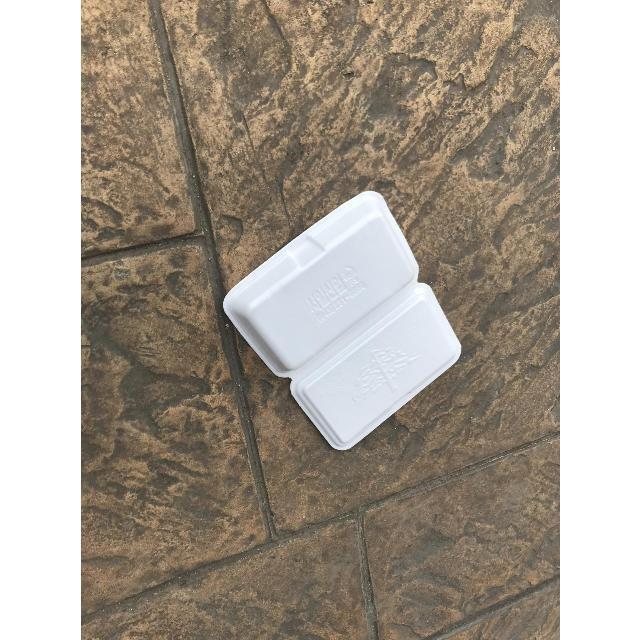Plastico descartable: (222, 191, 461, 451)
